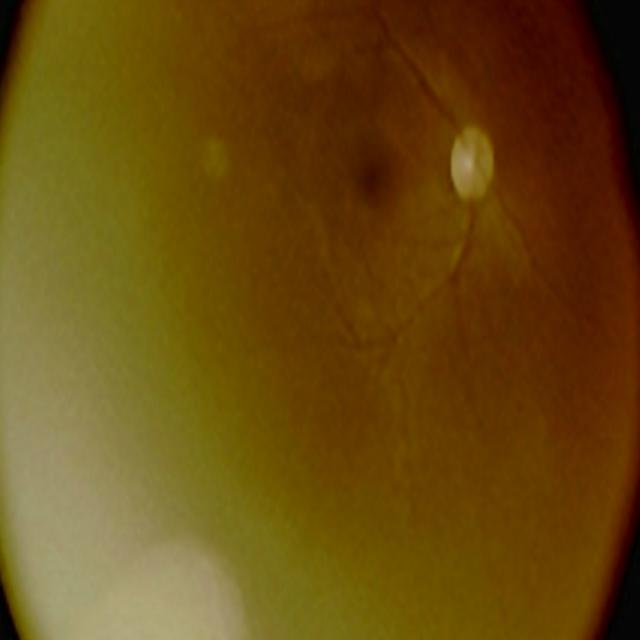optic-nerve: (421, 89, 526, 236)
